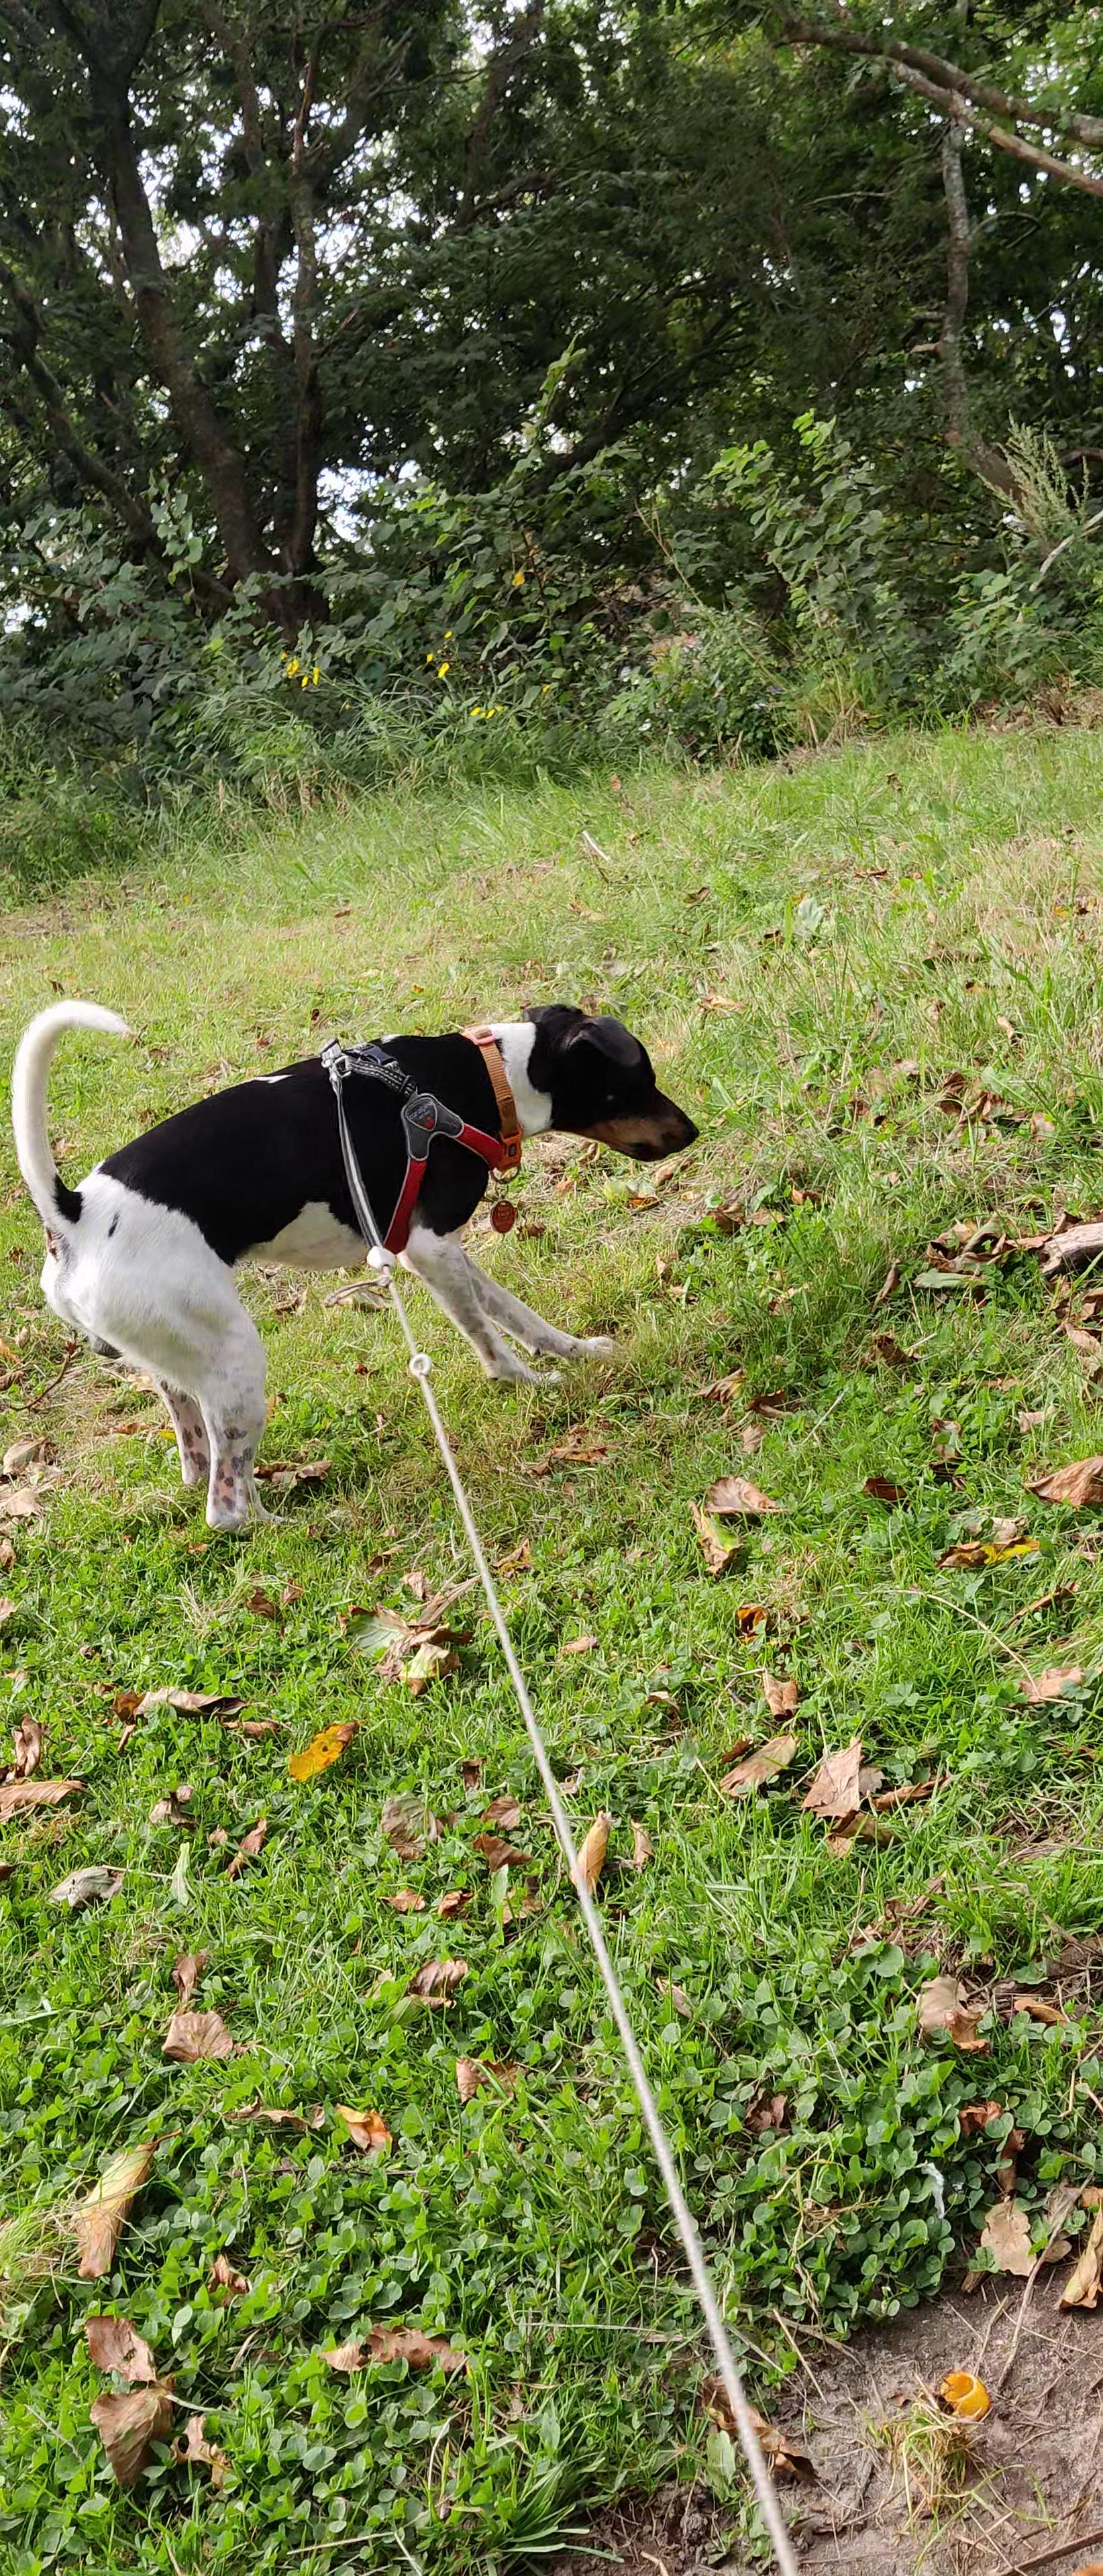Dog: (7, 992, 705, 1556)
